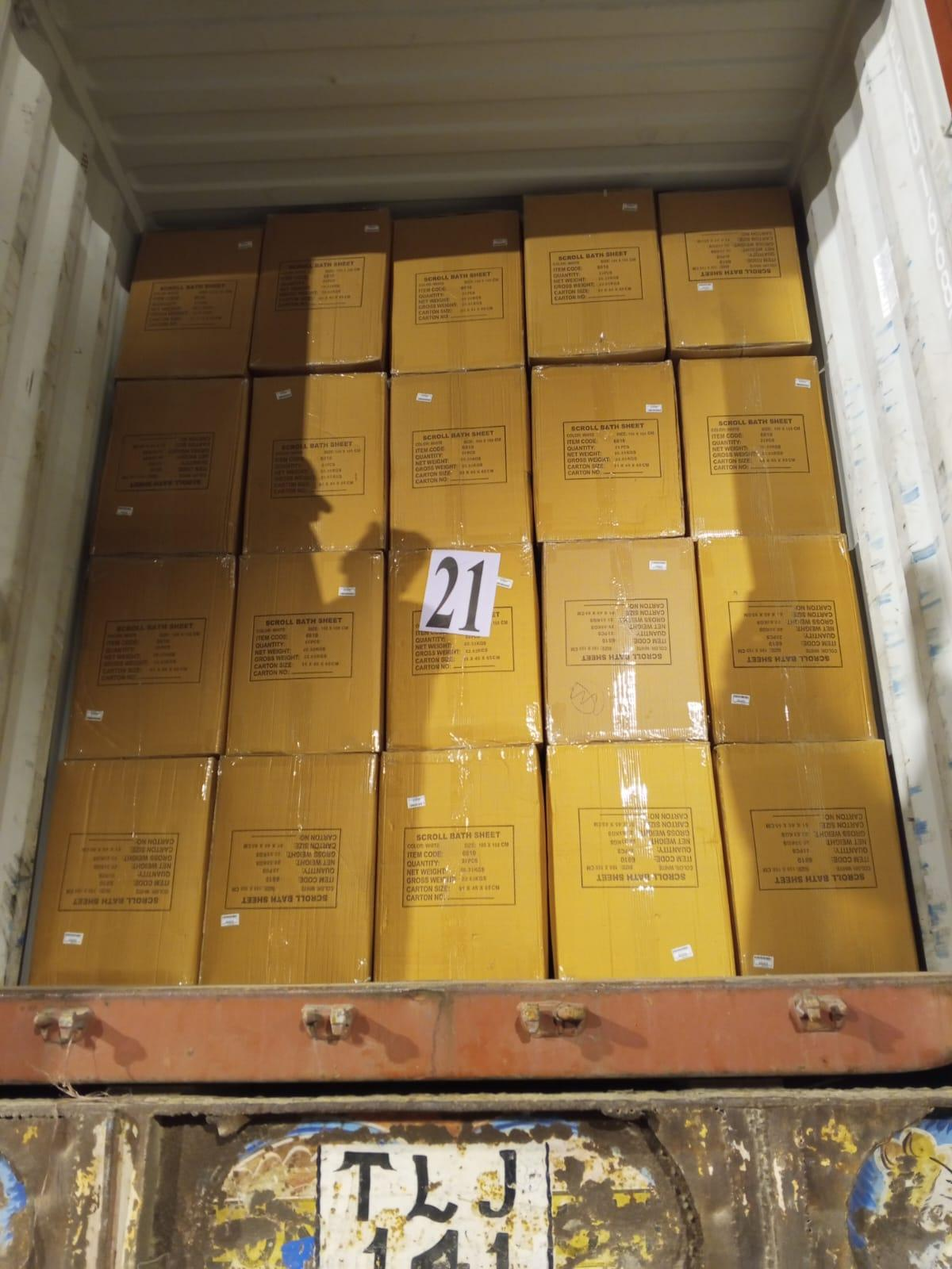carton: (714, 739, 919, 976), (546, 740, 735, 980), (29, 757, 215, 986), (374, 745, 547, 983), (201, 753, 377, 985), (695, 535, 876, 743), (67, 554, 236, 759), (540, 538, 708, 744), (227, 551, 386, 754), (386, 546, 541, 749), (677, 355, 840, 538), (91, 378, 249, 555), (530, 362, 684, 542), (657, 187, 812, 358), (389, 367, 532, 550), (243, 373, 388, 553), (522, 190, 666, 364), (248, 208, 392, 373), (115, 227, 264, 379), (390, 211, 524, 373)
